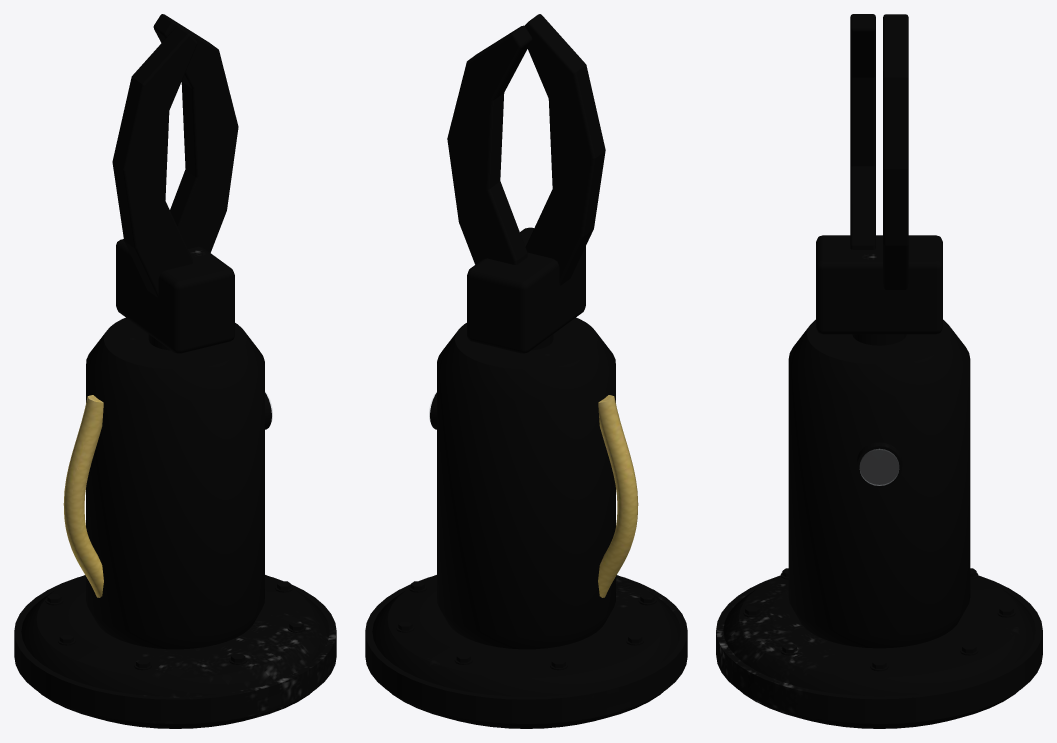
3 views of the same model, side by side, from view 1: azimuth 30°, elevation 25°; view 2: azimuth 150°, elevation 25°; view 3: azimuth 270°, elevation 25° (orthographic).
Parts seen in each view (by area): view 1: TL03_Static_Titanium, TL03_Static_AnodizedBlack, TL03_Static_KevlarWire; view 2: TL03_Static_Titanium, TL03_Static_AnodizedBlack, TL03_Static_KevlarWire; view 3: TL03_Static_Titanium, TL03_Static_AnodizedBlack, TL03_Static_OpticalGlass.
Boxes of the visible parts, <box> form: TL03_Static_Titanium: <box>14,14,336,728</box>; TL03_Static_AnodizedBlack: <box>86,317,271,649</box>; TL03_Static_KevlarWire: <box>63,395,103,597</box>; TL03_Static_Titanium: <box>365,14,687,728</box>; TL03_Static_AnodizedBlack: <box>430,317,615,649</box>; TL03_Static_KevlarWire: <box>598,395,638,597</box>; TL03_Static_Titanium: <box>716,14,1042,728</box>; TL03_Static_AnodizedBlack: <box>788,319,970,648</box>; TL03_Static_OpticalGlass: <box>860,449,898,485</box>.
Size of the model in its own units: 0.36 by 0.7988 by 0.36.
5 materials, 4 textured.
